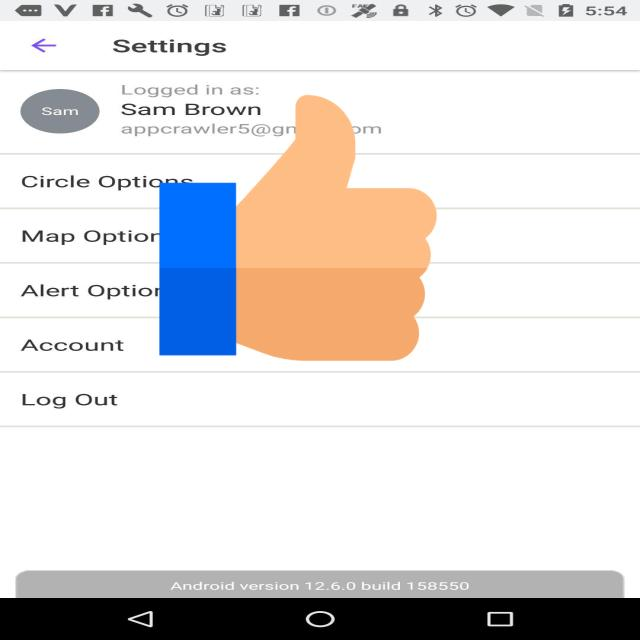privacy zuckering: (159, 89, 437, 368)
